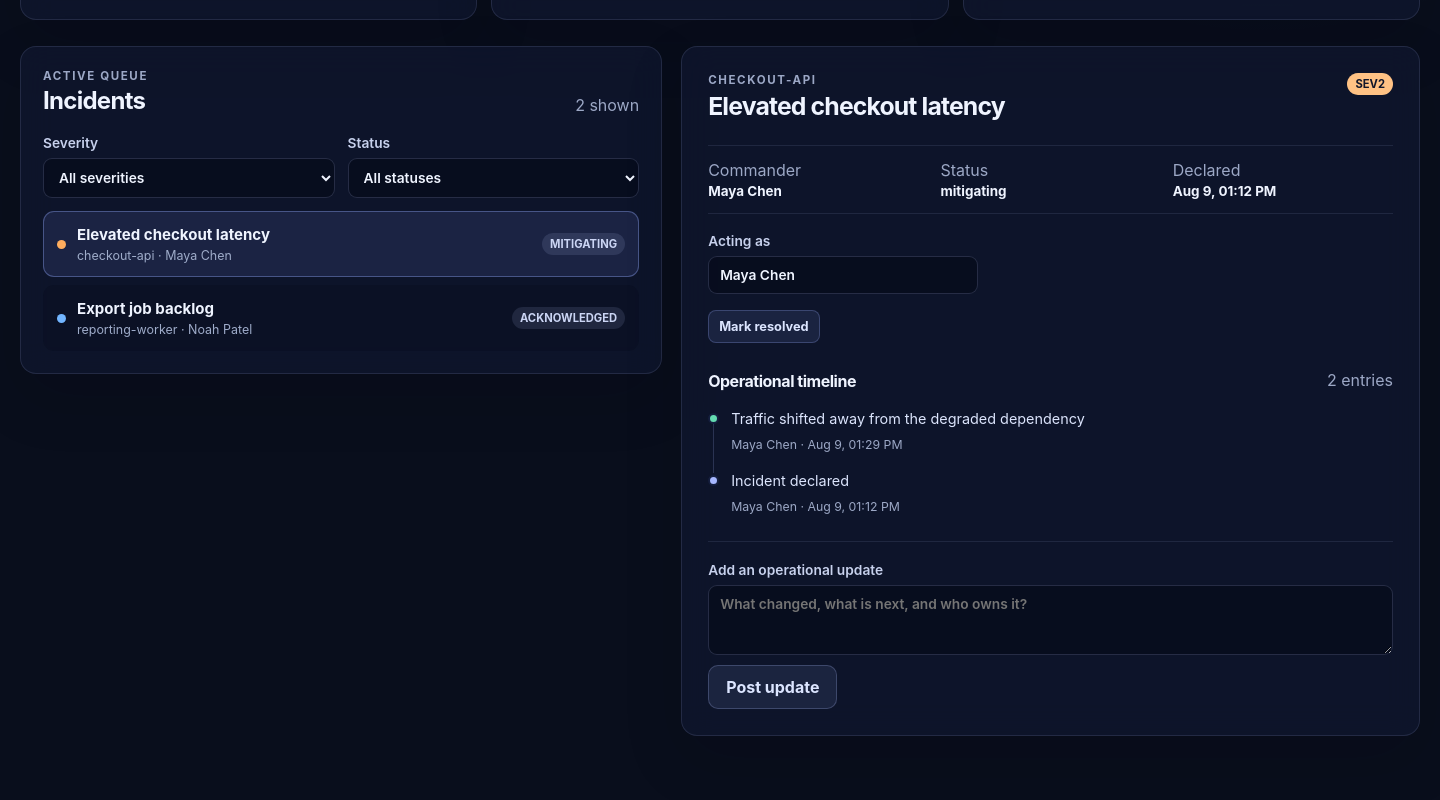
Test: Situation Room › adds an operational update to the selected incident
(page scrolled)
In the text box labelled "Add an operational update": (1051, 620) [708,585,1393,655], type "Cache purge started; watching p95 latency."
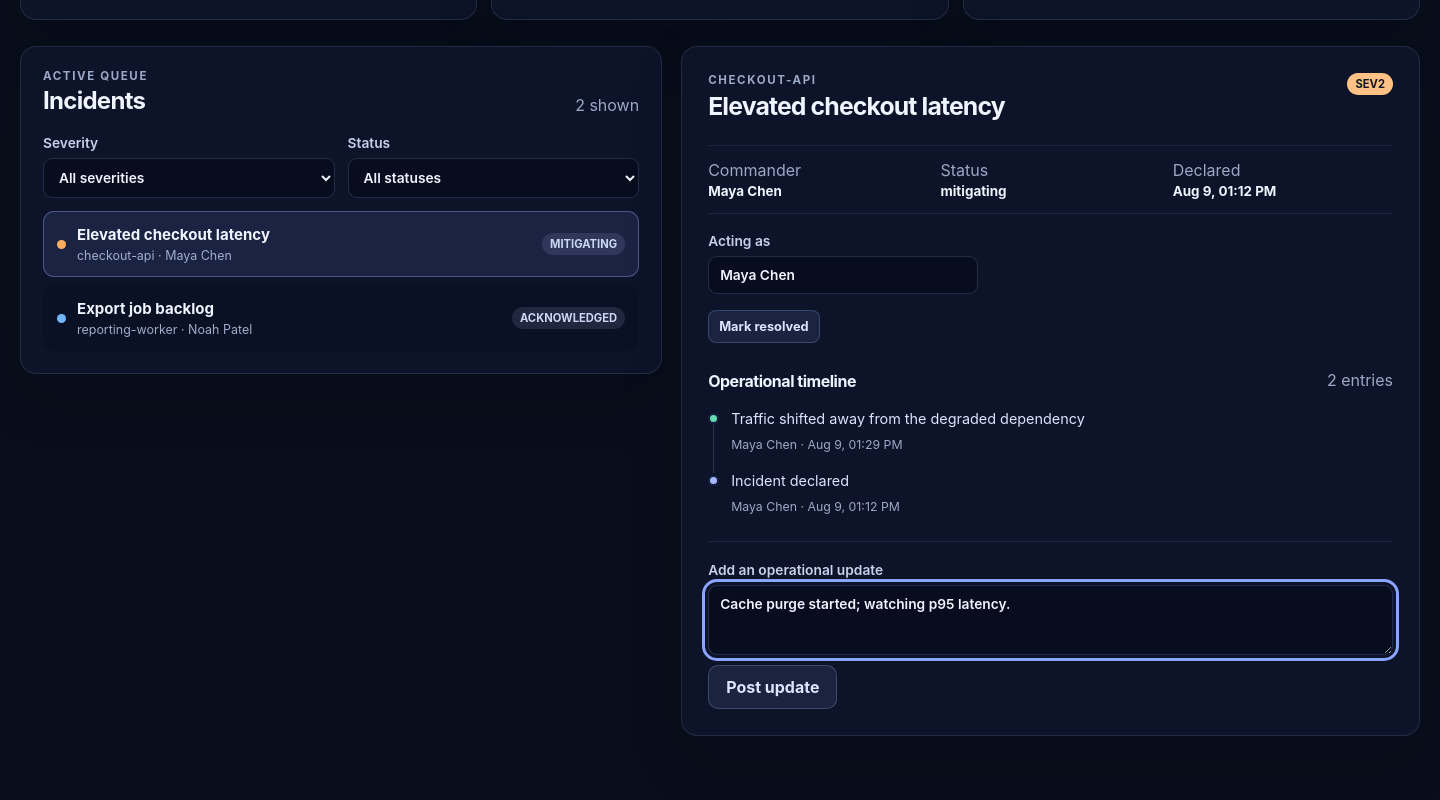
Click the button "Post update": click(773, 687) [708,665,838,709]
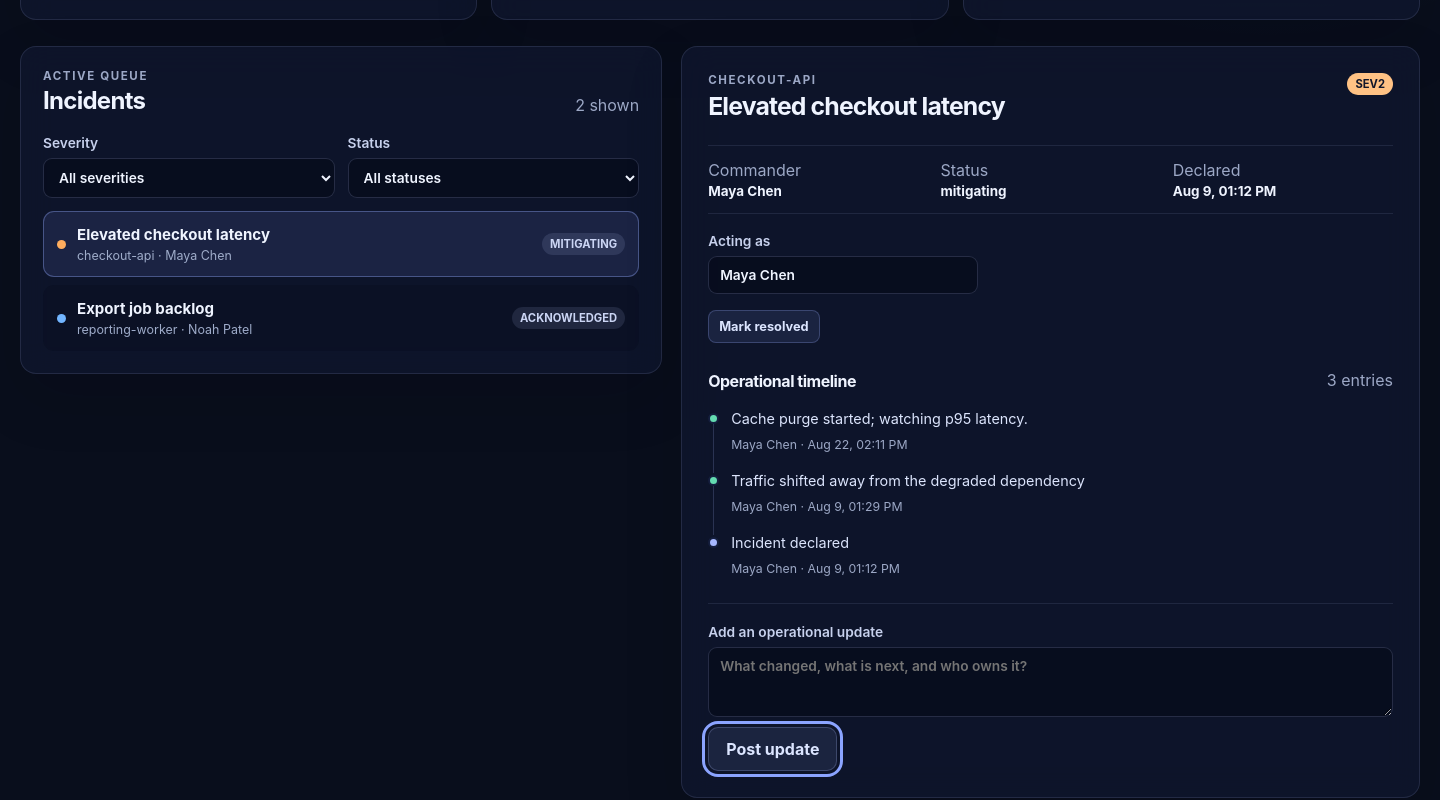
Expected: the text "Cache purge started; watching p95 latency." is shown, [731,410,1028,427]
